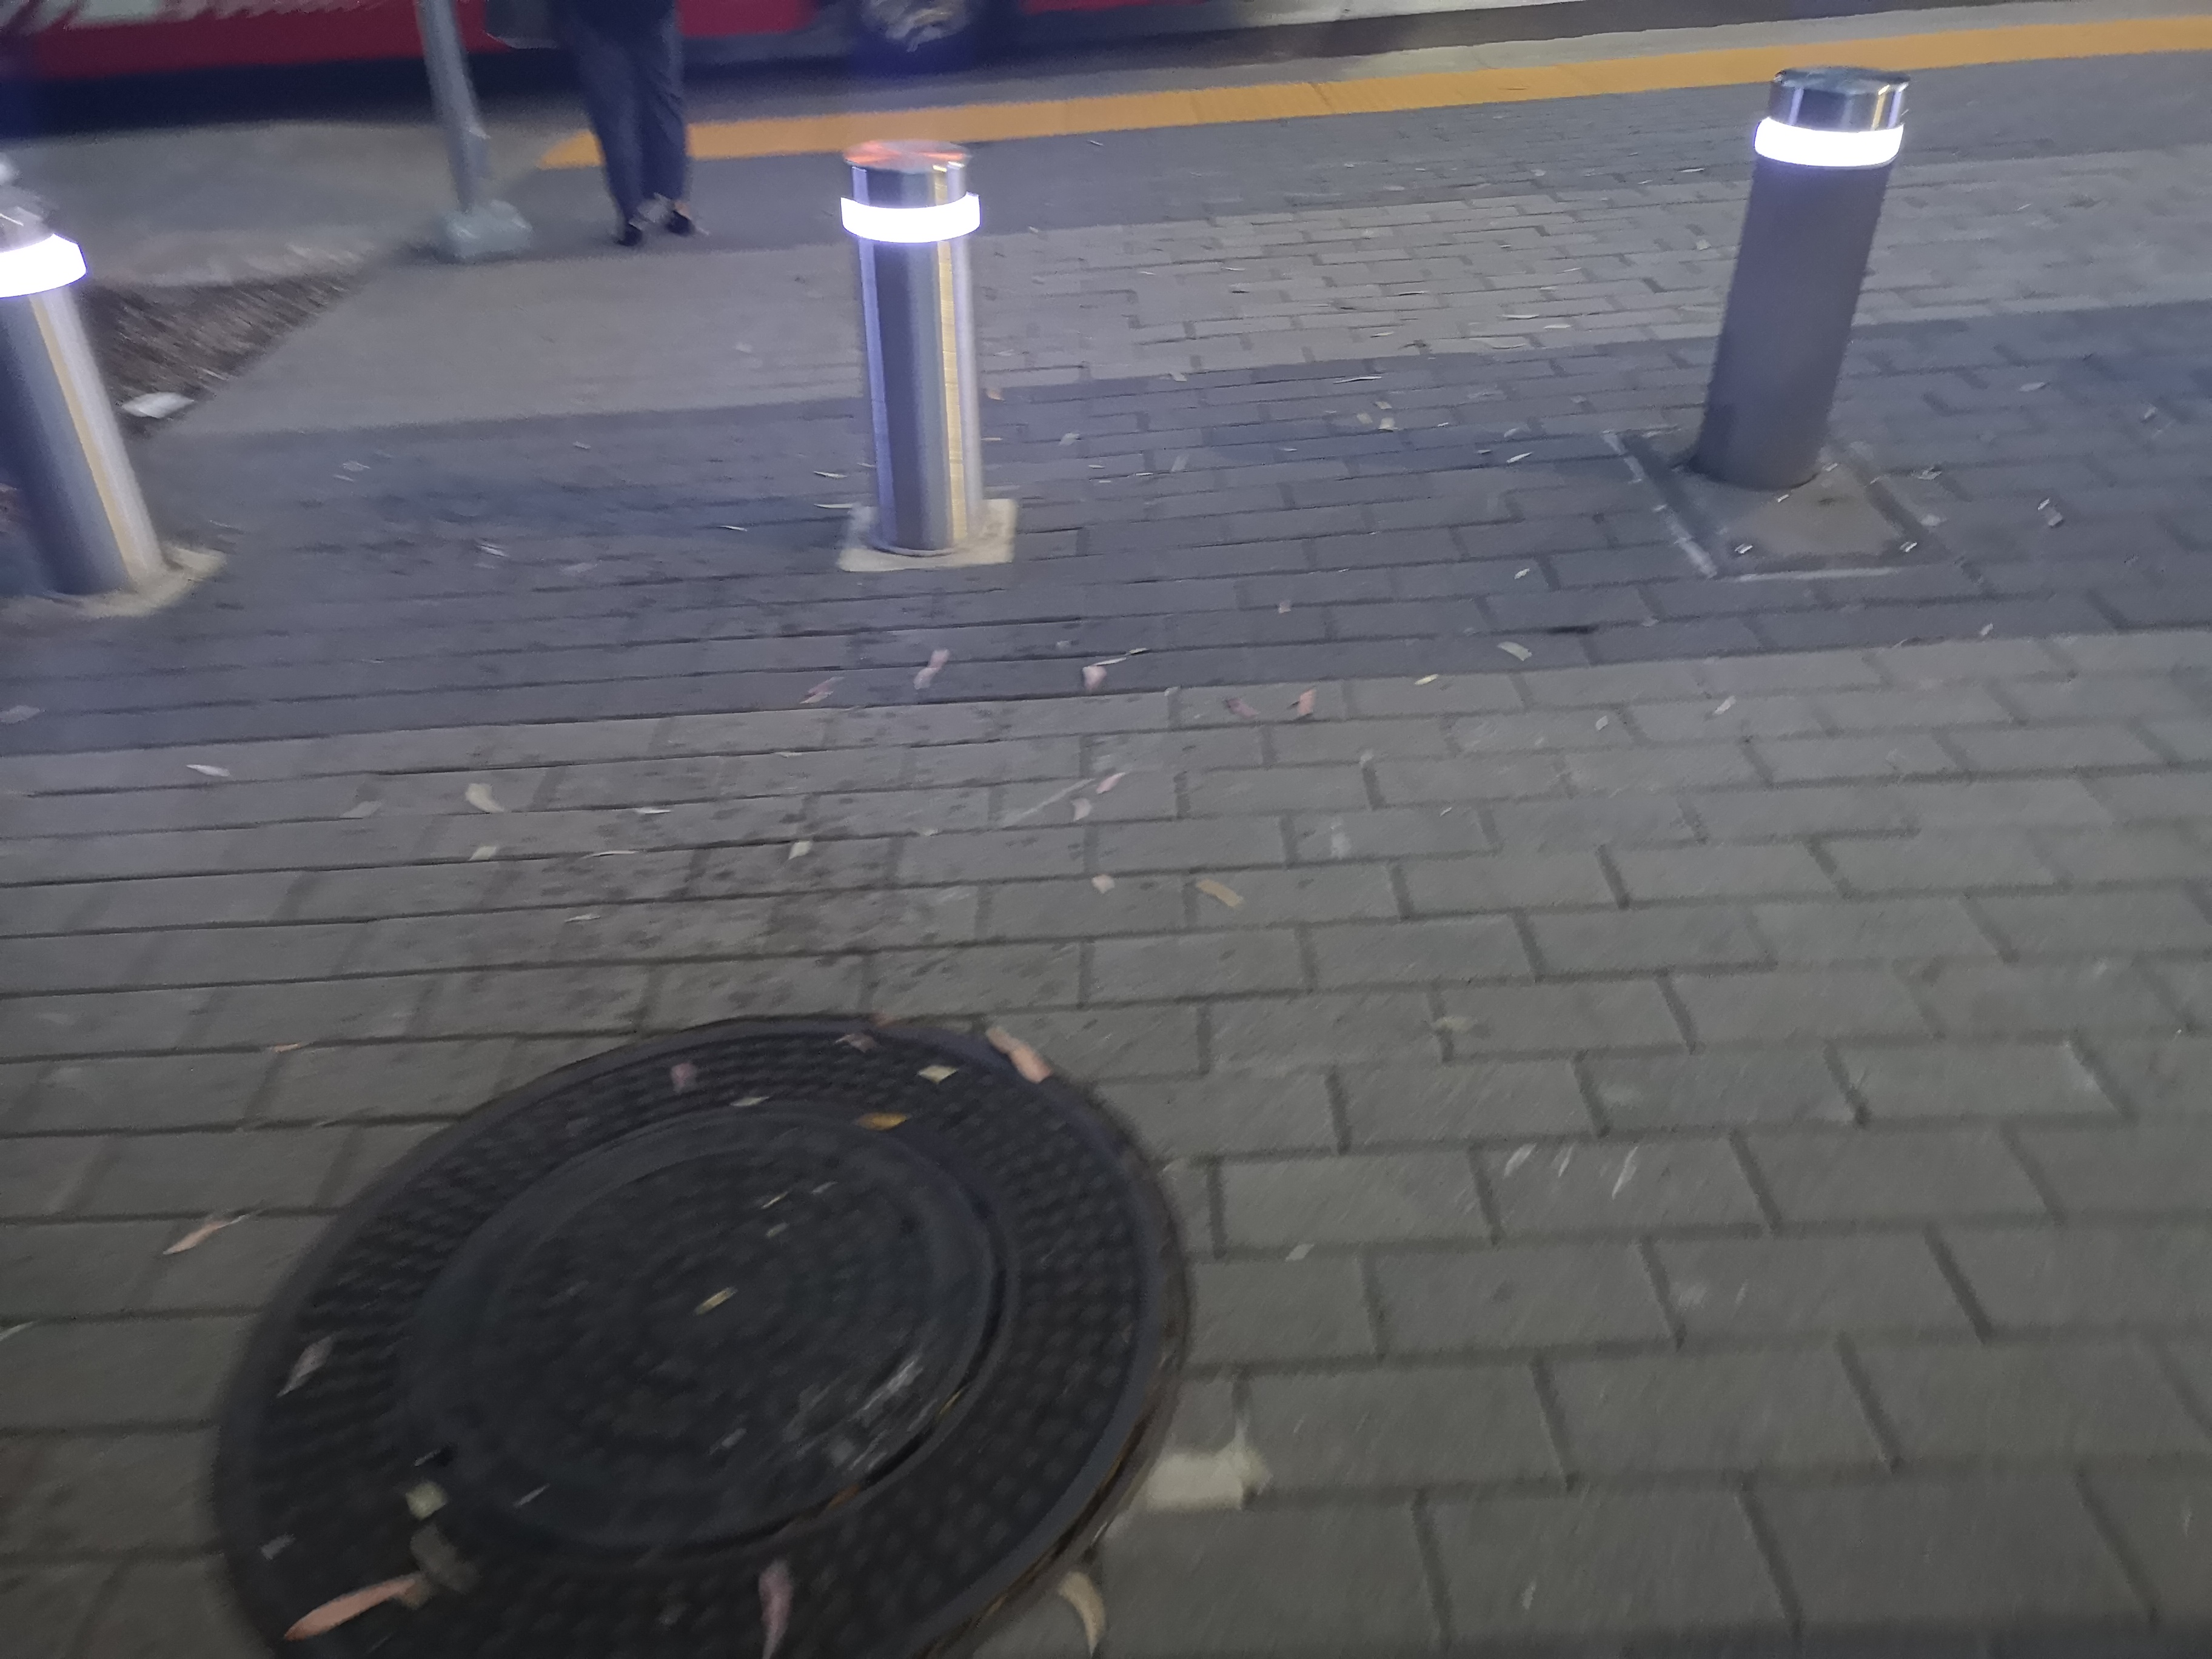Obstacle: (801, 145, 1089, 586), (1695, 58, 1911, 495), (3, 199, 195, 629), (378, 10, 507, 274), (580, 5, 697, 251)
